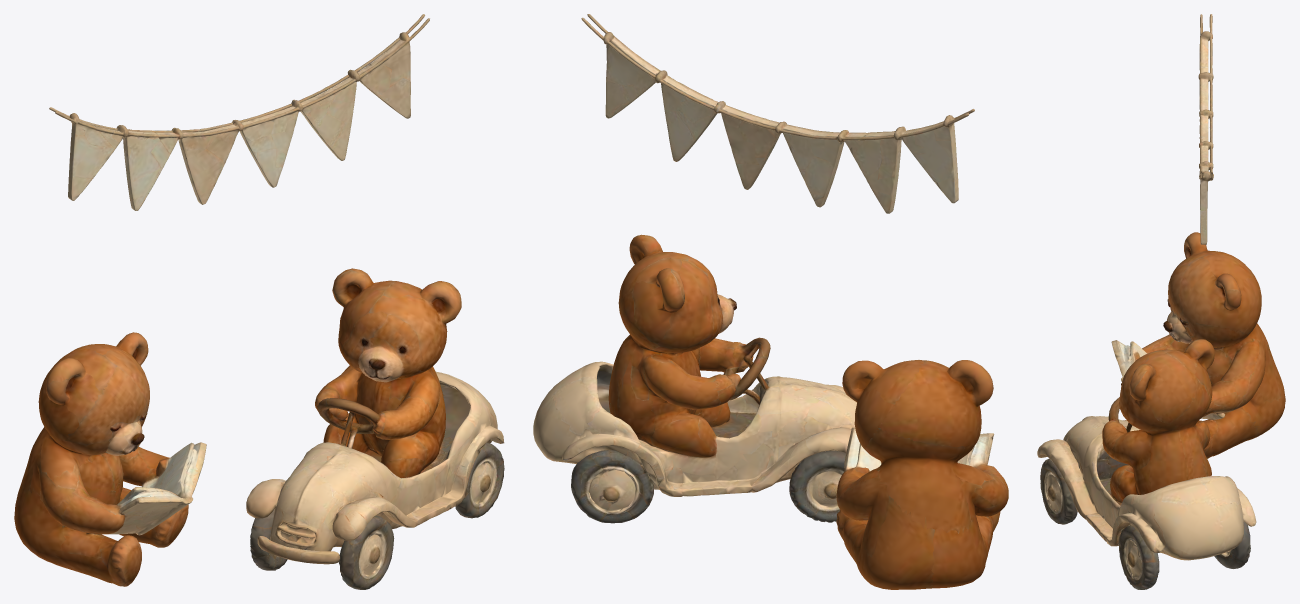
The picture shows the model from 3 angles, left to right: view 1: azimuth 30°, elevation 25°; view 2: azimuth 150°, elevation 25°; view 3: azimuth 270°, elevation 25°; orthographic projection. The views are drawn at different scales.
Parts seen in each view (by area): view 1: Mesh 6, Mesh 1, Mesh 2; view 2: Mesh 6, Mesh 1, Mesh 2; view 3: Mesh 6, Mesh 1, Mesh 2.
Boxes of the visible parts, <box> form: Mesh 6: <box>246,268,504,589</box>; Mesh 1: <box>14,332,206,586</box>; Mesh 2: <box>49,14,429,210</box>; Mesh 6: <box>533,234,856,523</box>; Mesh 1: <box>836,360,1008,589</box>; Mesh 2: <box>581,14,974,213</box>; Mesh 6: <box>1037,339,1256,589</box>; Mesh 1: <box>1111,232,1285,458</box>; Mesh 2: <box>1198,14,1213,244</box>.
Bounding box in the file's own units: 1.88 × 1.9 × 1.04.
3 materials, 3 textured.
